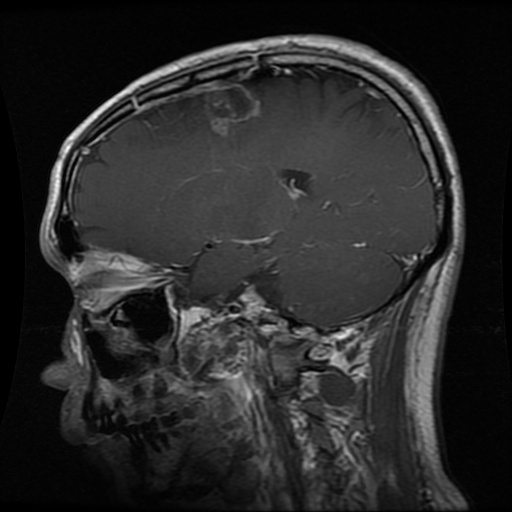glioma: (210, 88, 260, 138)
